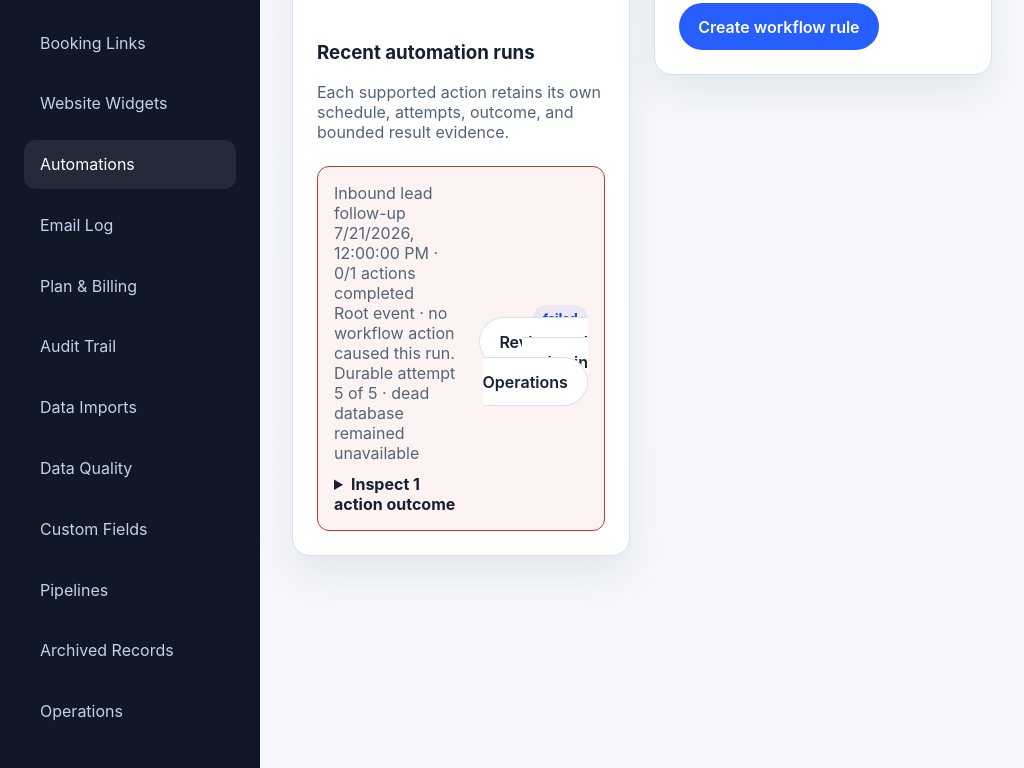
Test: settings task automations route › reconciles a dead durable operation and guides an admin to audited replay
(page scrolled)
Expected: the text "database remained unavailable" is shown, [334, 403, 419, 463]
Expected: the text "Durable attempt 5 of 5 · dead" is shown, [334, 363, 456, 403]
Click the heading "Inspect 1 action outcome" at (395, 494), box [334, 474, 456, 514]
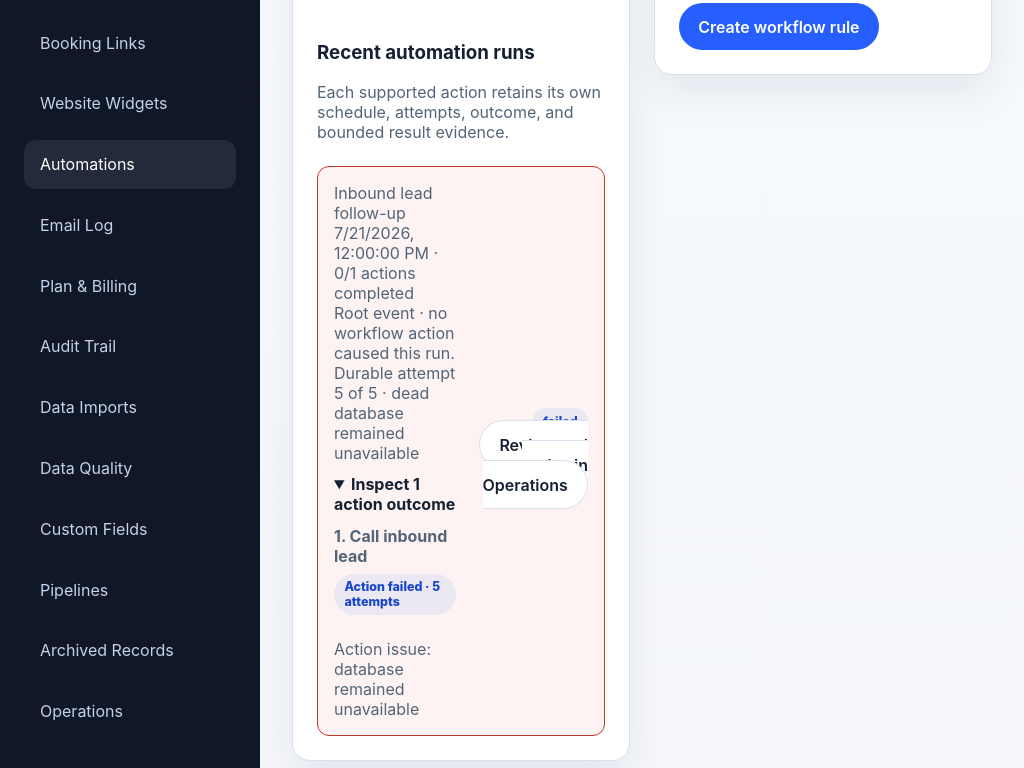
Result: the text "Action failed · 5 attempts" is shown at [334, 574, 456, 615]
Result: the text "Action issue: database remained unavailable" is shown at [334, 639, 431, 719]
